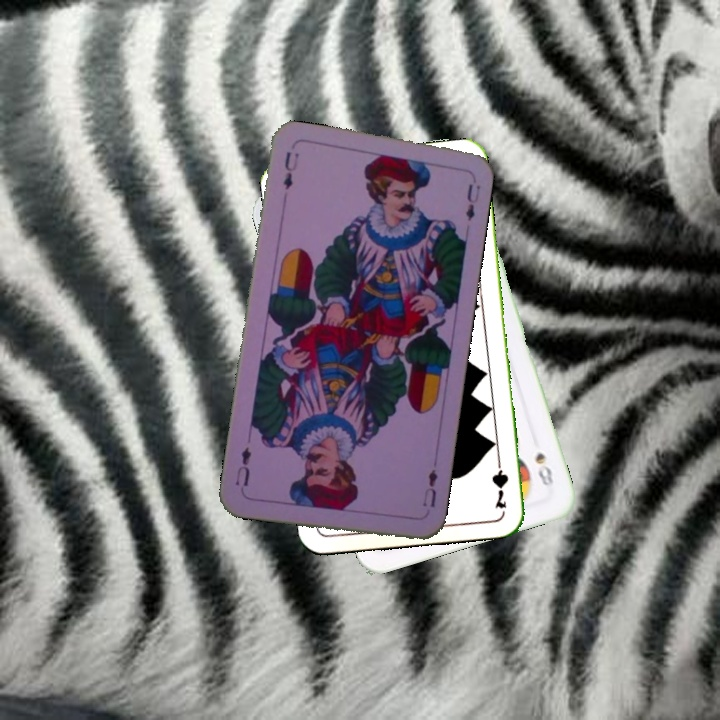EU: (279, 147, 301, 193), (418, 465, 440, 510)
G7: (487, 452, 511, 511)
S8: (531, 448, 556, 490)
